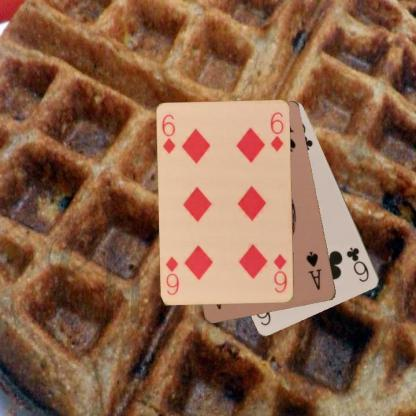6c: (344, 244, 371, 284)
6d: (159, 112, 177, 156), (271, 251, 289, 294)
As: (304, 249, 323, 292)
